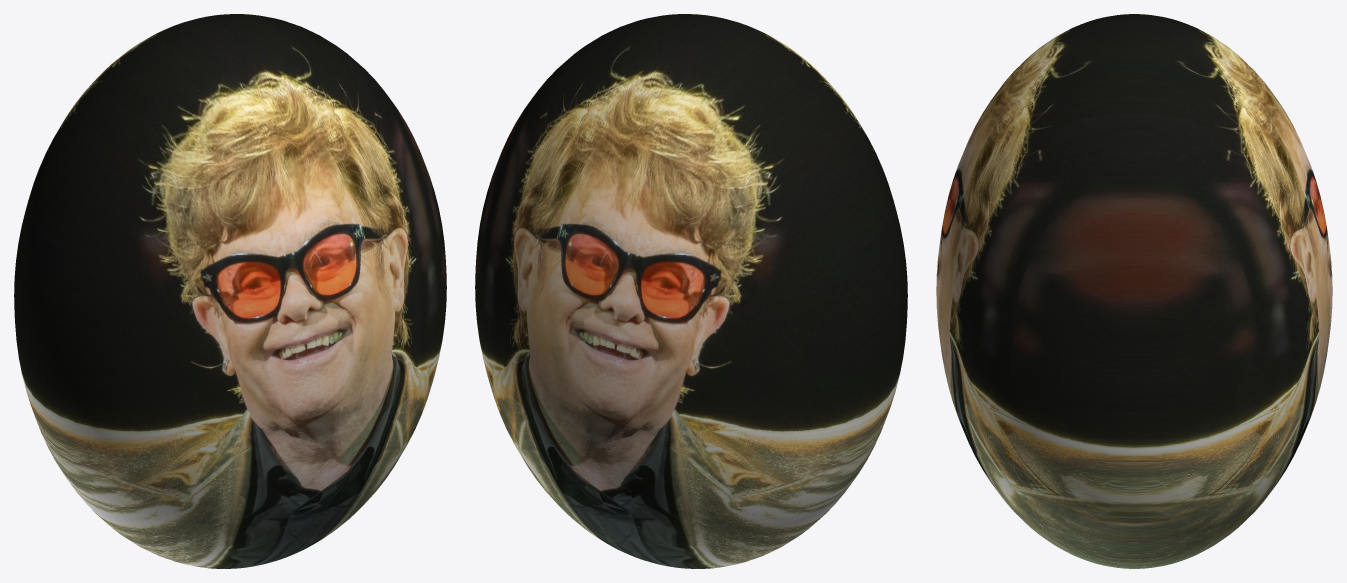
3 views of the same model, side by side, from view 1: azimuth 30°, elevation 25°; view 2: azimuth 150°, elevation 25°; view 3: azimuth 270°, elevation 25° (orthographic).
Parts seen in each view (by area): view 1: head; view 2: head; view 3: head.
Boxes of the visible parts, x1,y1,x2,y2 form: head: [14, 14, 446, 568]; head: [475, 14, 907, 568]; head: [936, 14, 1332, 568].
Size of the model in its own units: 1.53 by 2 by 1.37.
Materials: 1 (1 with a texture image).
